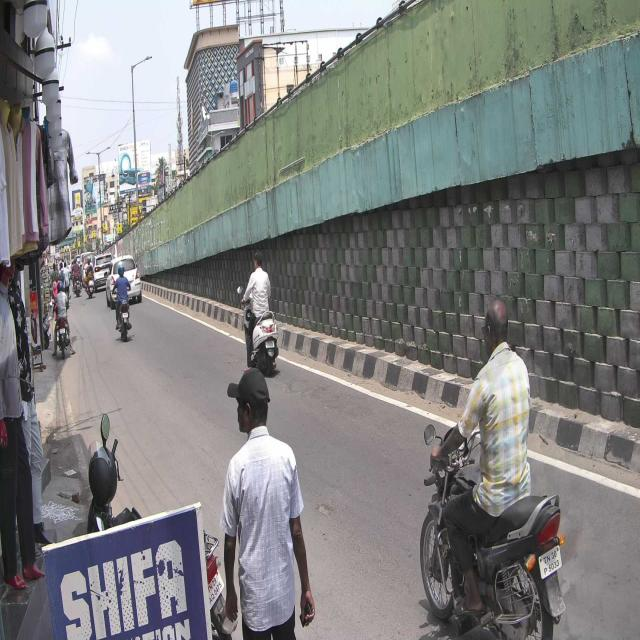single_rider: (418, 300, 565, 640), (236, 248, 279, 378)
